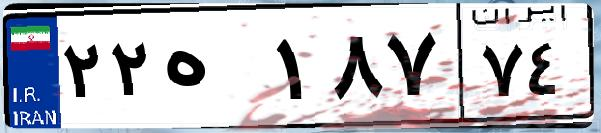1: (270, 28, 330, 110)
2: (57, 26, 110, 100), (110, 28, 158, 98)
4: (525, 38, 570, 115)
7: (385, 28, 445, 110), (475, 38, 525, 113)
8: (330, 28, 385, 110)
ه: (158, 20, 270, 120)
